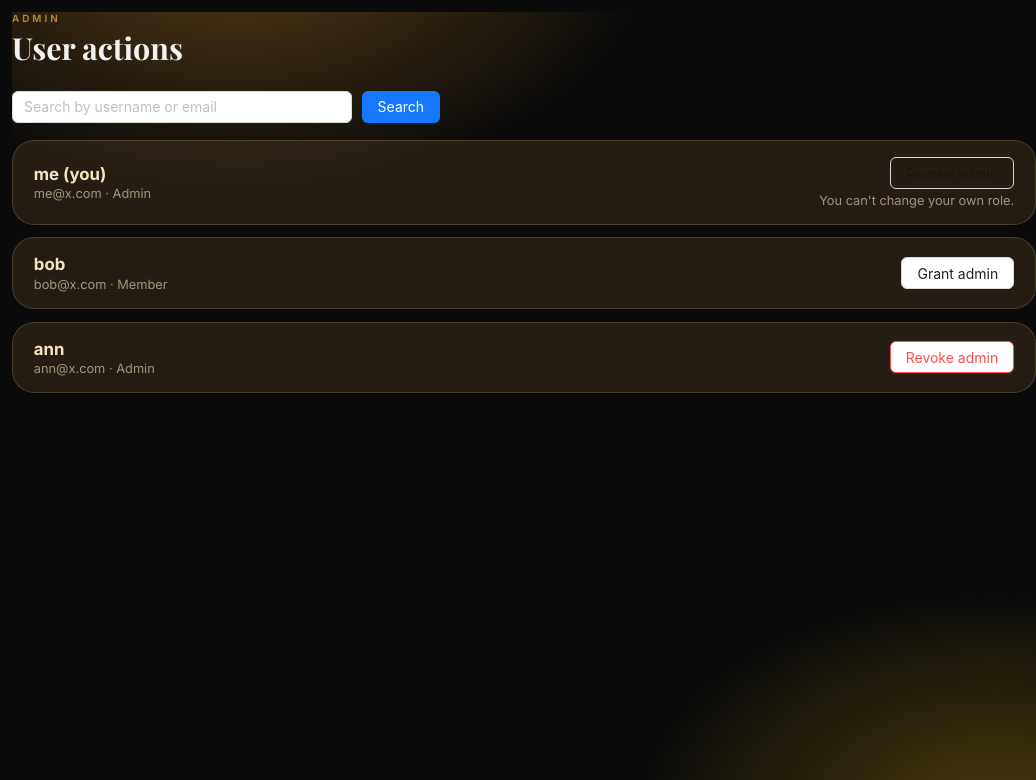
Test case: AdminUserActions › cancel abandons the pending revoke
Click the button "Revoke admin" in the row of "ann@x.com": click(952, 357) [890,341,1014,373]
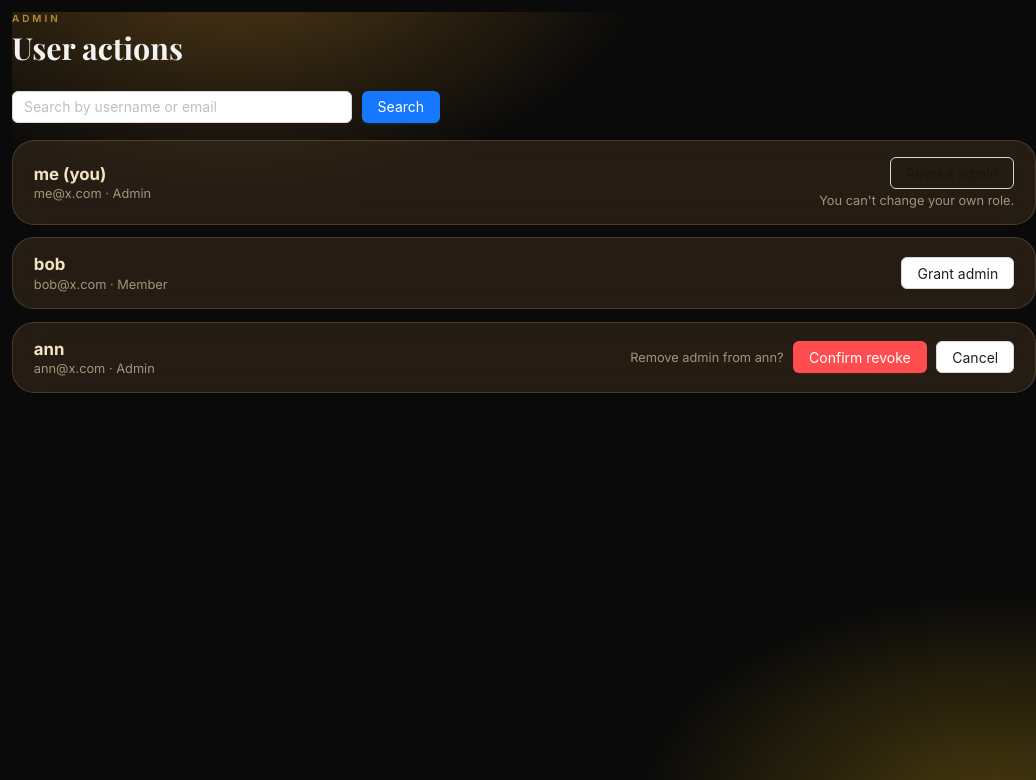
Click the button "Cancel": click(975, 357) [936,341,1014,373]
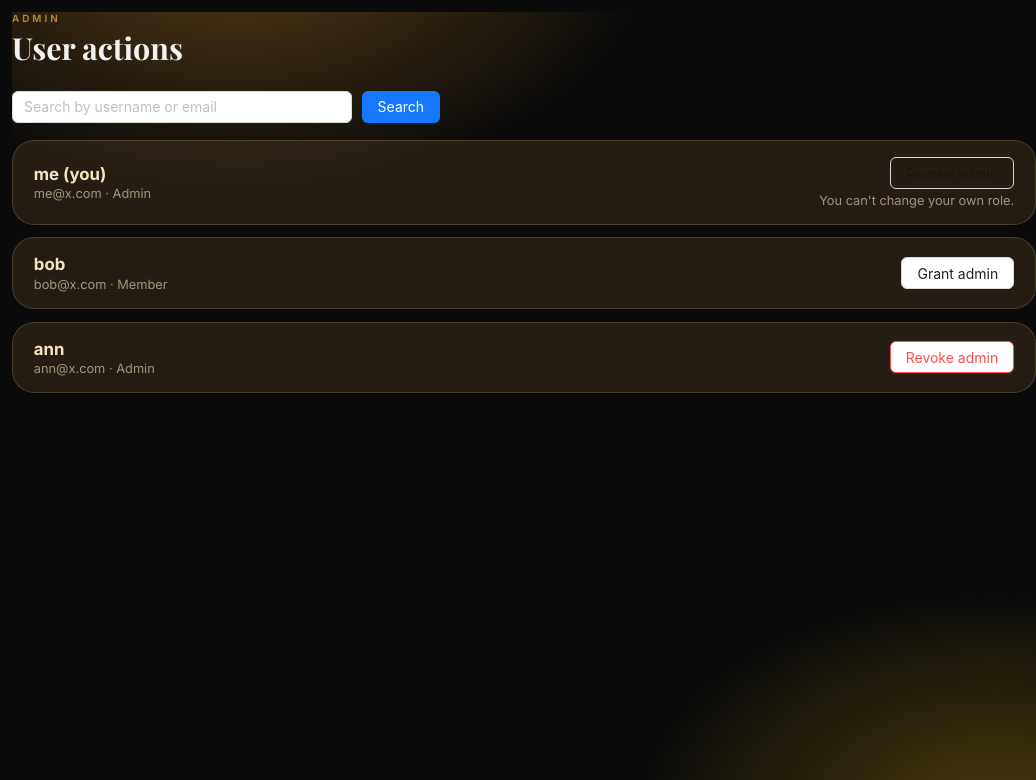
Now the button "Revoke admin" in the row of "ann@x.com" is shown, box [890,341,1014,373]
